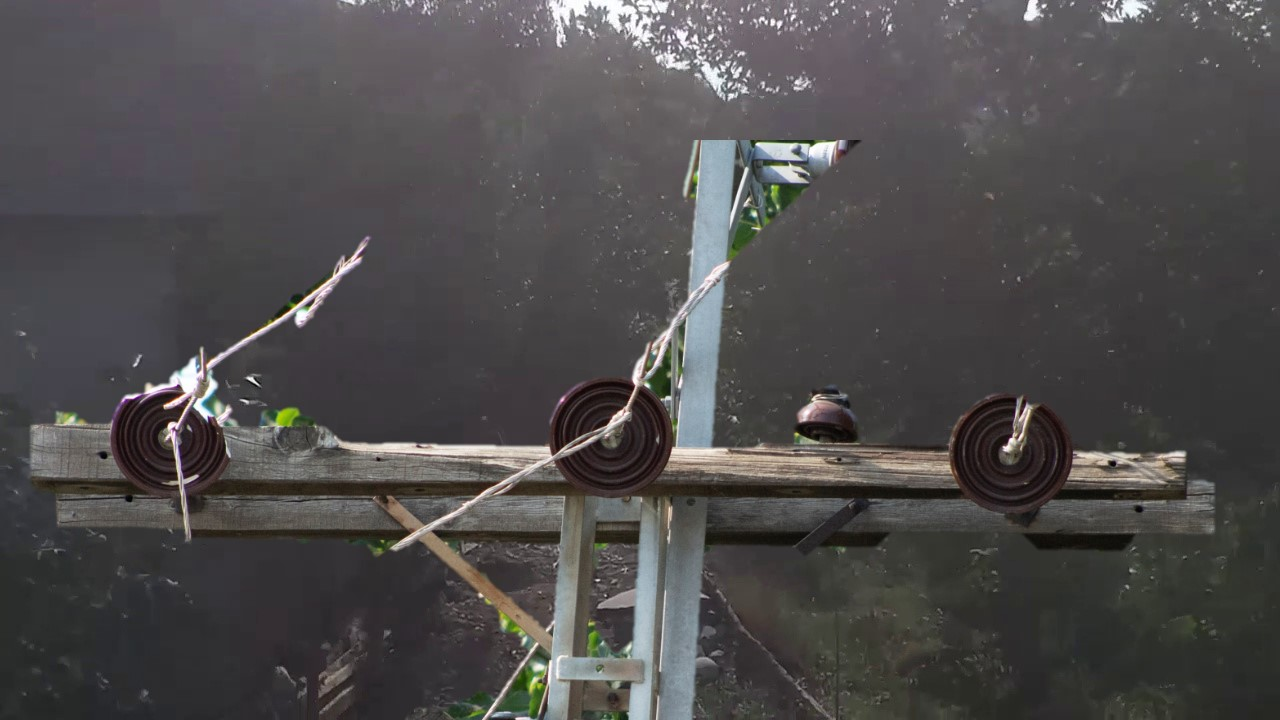defect_disc: (110, 372, 234, 501)
insulator_disc: (949, 384, 1078, 517), (547, 375, 680, 501)
insulator_pin: (789, 381, 866, 445)
